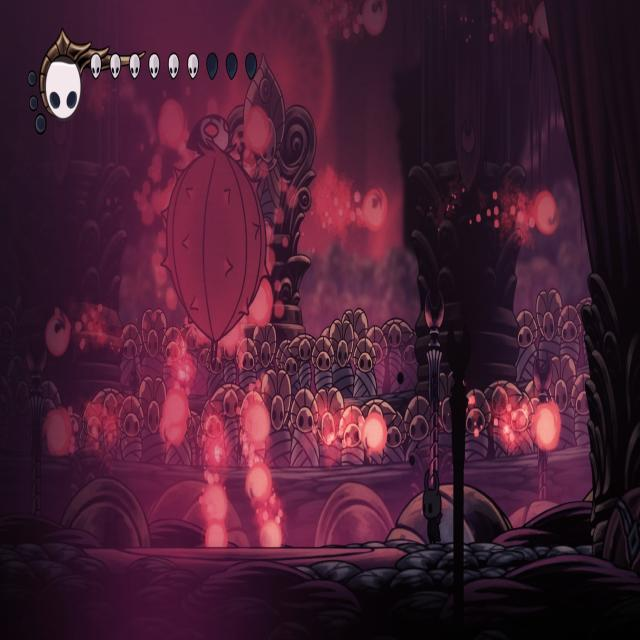Player: (417, 463, 448, 547)
Pufferfish: (155, 108, 272, 373)
Tiny Fireballs: (161, 389, 189, 448), (243, 108, 273, 160), (44, 408, 72, 456), (247, 280, 274, 326), (534, 403, 560, 450), (44, 312, 70, 357), (364, 412, 388, 459), (244, 401, 270, 444), (245, 463, 271, 504), (535, 191, 558, 235), (361, 188, 385, 230), (202, 482, 227, 522), (362, 1, 386, 37), (204, 519, 227, 548), (262, 520, 284, 547)
